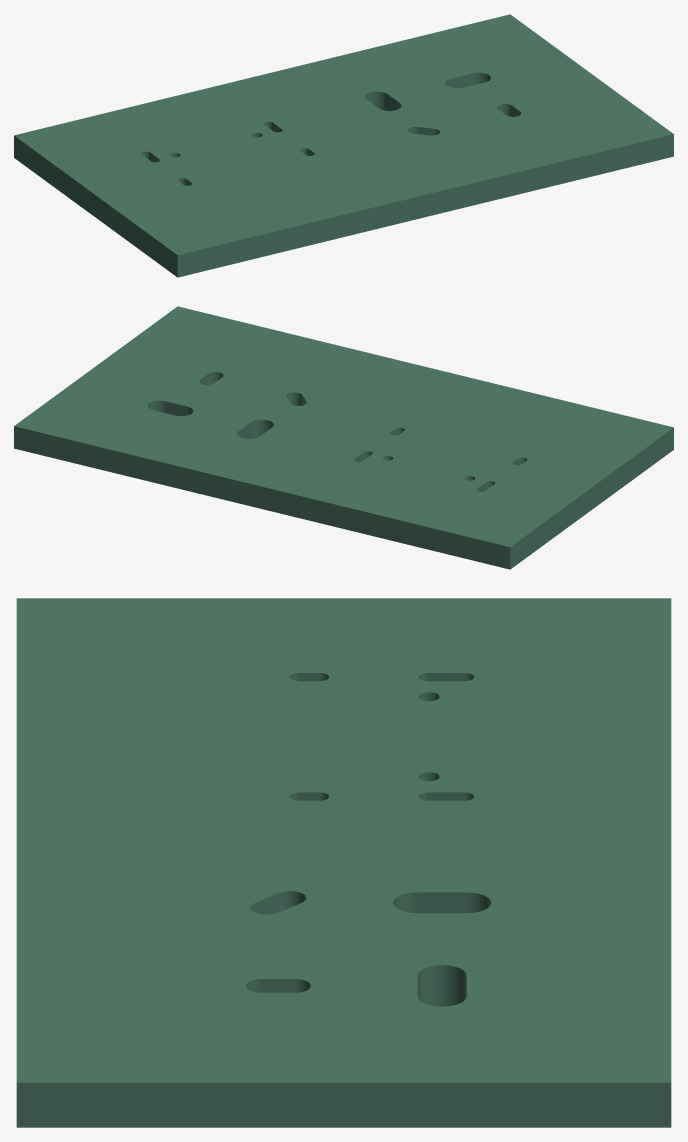
Rendered from board.glb.
3 renders of one model, top to bottom at view 1: azimuth 30°, elevation 25°; view 2: azimuth 150°, elevation 25°; view 3: azimuth 270°, elevation 25°, orthographic. The views are drawn at different scales.
Visible parts, largest first — view 1: =>[0:1:1:2]; view 2: =>[0:1:1:2]; view 3: =>[0:1:1:2].
Boxes of the visible parts, x1,y1,x2,y2 form: =>[0:1:1:2]: [14, 14, 673, 277]; =>[0:1:1:2]: [14, 306, 673, 569]; =>[0:1:1:2]: [16, 598, 671, 1127].
Size of the model in its own units: 0.035 by 0.00151 by 0.02.
